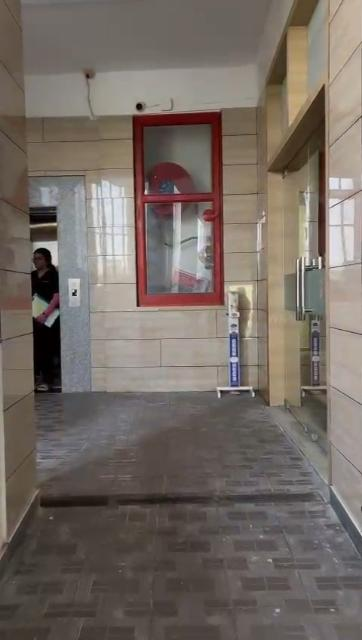door: (282, 173, 320, 399)
floor: (0, 398, 362, 640)
moving-obj: (25, 244, 77, 388)
wall: (325, 0, 362, 489), (0, 0, 30, 524), (95, 168, 140, 390), (227, 108, 267, 282), (137, 306, 221, 386), (21, 118, 130, 174)
